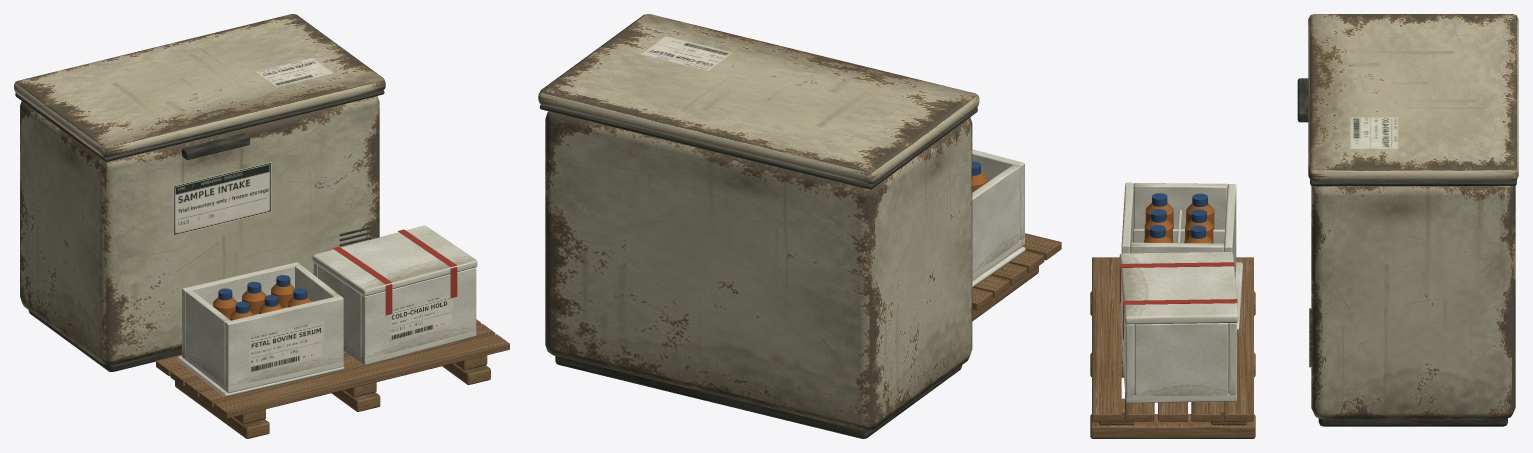
The model's file is 03_Cold_Chain_Intake.glb.
The picture shows the model from 3 angles, left to right: view 1: azimuth 30°, elevation 25°; view 2: azimuth 150°, elevation 25°; view 3: azimuth 270°, elevation 25°; orthographic projection. The views are drawn at different scales.
Parts seen in each view (by area): view 1: Chest freezer enamel body, Insulated freezer lid, EPS shipper front/back, Pallet plank, Tongued foam lid, EPS shipper ends, Cold receiving designation, FBS batch inventory, Pallet runner, Intact inbound sticker, Black lid gasket, Receiving slip on freezer (+9 smaller); view 2: Chest freezer enamel body, Insulated freezer lid, EPS shipper ends, Freezer plinth, Pallet plank, Black lid gasket, Receiving slip on freezer, EPS shipper front/back, Pallet runner; view 3: Chest freezer enamel body, Insulated freezer lid, EPS shipper ends, Pallet plank, Tongued foam lid, EPS shipper front/back, Pallet runner, Receiving slip on freezer, Freezer plinth, Screw cap, Bottle shoulder, Black lid gasket (+7 smaller).
Boxes of the visible parts, x1,y1,x2,y2 form: Chest freezer enamel body: (20, 96, 379, 365); Insulated freezer lid: (14, 14, 385, 157); EPS shipper front/back: (182, 262, 476, 387); Pallet plank: (156, 319, 509, 418); Tongued foam lid: (312, 225, 477, 296); EPS shipper ends: (185, 265, 361, 384); Cold receiving designation: (173, 162, 271, 235); FBS batch inventory: (248, 319, 324, 374); Pallet runner: (175, 363, 490, 438); Intact inbound sticker: (389, 293, 453, 342); Black lid gasket: (15, 90, 384, 161); Receiving slip on freezer: (256, 58, 333, 86); Chest freezer enamel body: (545, 111, 972, 430); Insulated freezer lid: (538, 14, 979, 184); EPS shipper ends: (972, 164, 1020, 274); Freezer plinth: (555, 356, 962, 438); Pallet plank: (972, 233, 1061, 310); Black lid gasket: (539, 104, 977, 189); Receiving slip on freezer: (641, 36, 732, 70); EPS shipper front/back: (972, 149, 1024, 245); Pallet runner: (972, 266, 1038, 321); Chest freezer enamel body: (1311, 185, 1515, 419); Insulated freezer lid: (1308, 14, 1518, 181); EPS shipper ends: (1130, 183, 1228, 396); Pallet plank: (1092, 257, 1253, 421); Tongued foam lid: (1119, 252, 1238, 324); EPS shipper front/back: (1121, 182, 1236, 400); Pallet runner: (1090, 291, 1255, 438); Receiving slip on freezer: (1350, 117, 1398, 148); Freezer plinth: (1318, 418, 1507, 426); Screw cap: (1150, 193, 1207, 238); Bottle shoulder: (1144, 202, 1214, 243); Black lid gasket: (1310, 180, 1516, 185).
Size of the model in its own units: 1.36 by 0.979 by 1.42.
14 materials, 11 textured.
